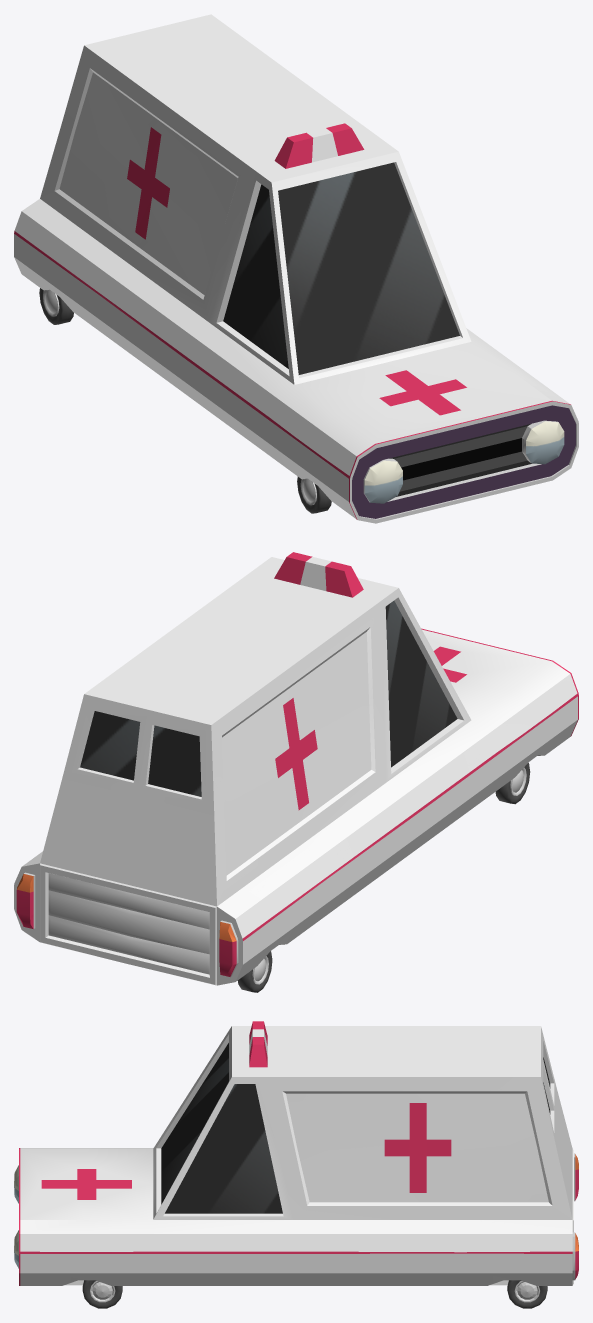
The model's file is Amblance.fbx.
3 renders of one model, top to bottom at view 1: azimuth 30°, elevation 25°; view 2: azimuth 150°, elevation 25°; view 3: azimuth 270°, elevation 25°, orthographic. The views are drawn at different scales.
Parts seen in each view (by area): view 1: pasted__ambulance_Vehicles LowPoly Pack_1; view 2: pasted__ambulance_Vehicles LowPoly Pack_1; view 3: pasted__ambulance_Vehicles LowPoly Pack_1.
Part boxes in pixels (box(x1,y1,x2,y2)): pasted__ambulance_Vehicles LowPoly Pack_1: box(14, 14, 578, 523); pasted__ambulance_Vehicles LowPoly Pack_1: box(14, 552, 578, 992); pasted__ambulance_Vehicles LowPoly Pack_1: box(14, 1021, 578, 1308).
Bounding box in the file's own units: 25258 × 29957 × 65478.
